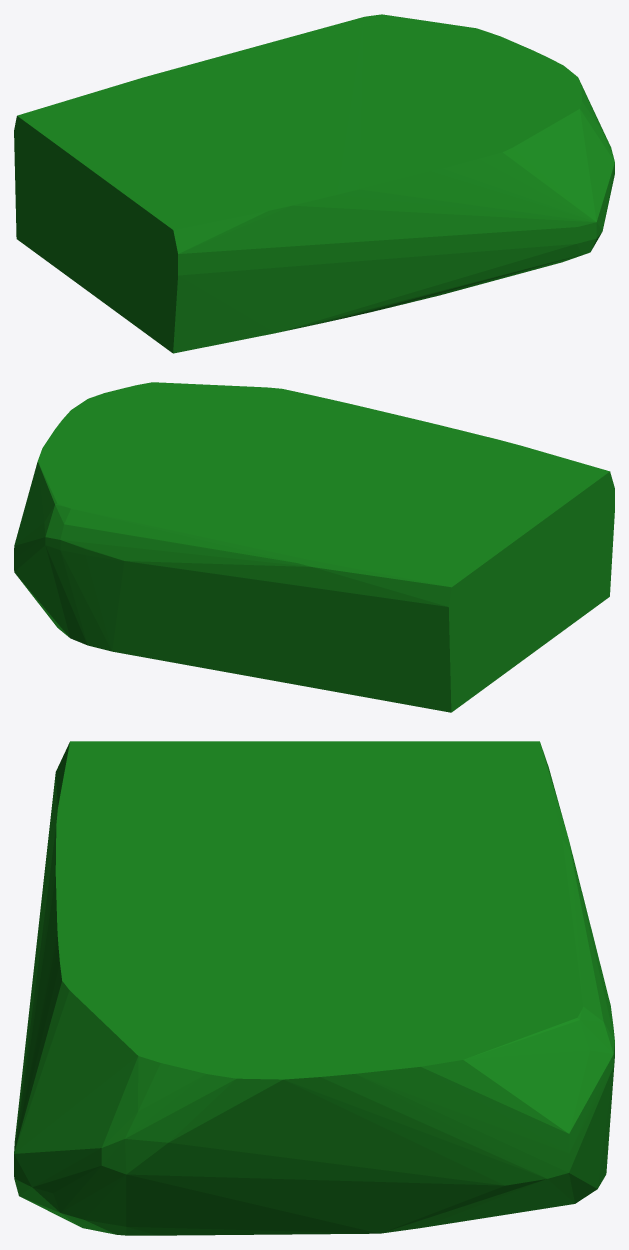
3 renders of one model, top to bottom at view 1: azimuth 30°, elevation 25°; view 2: azimuth 150°, elevation 25°; view 3: azimuth 270°, elevation 25°, orthographic. The views are drawn at different scales.
Size of the model in its own units: 0.057 by 0.0146 by 0.0428.
